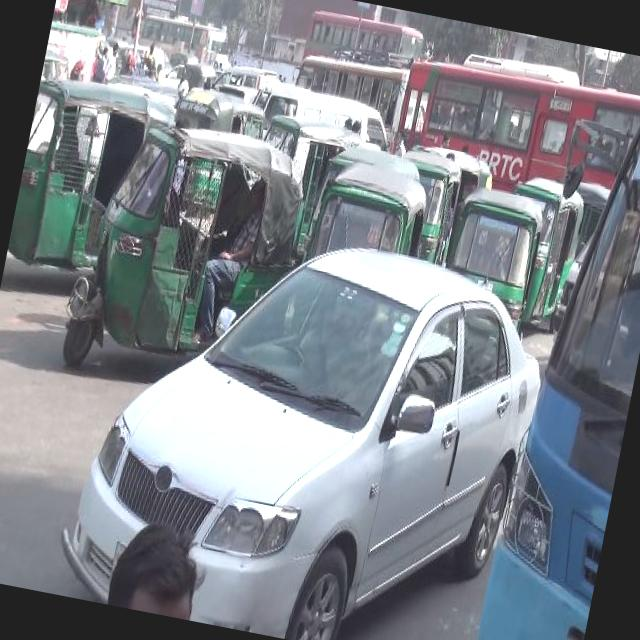bus: (469, 47, 640, 640), (381, 37, 640, 240), (283, 44, 411, 141), (297, 0, 428, 90), (132, 4, 239, 80)
car: (49, 198, 559, 640), (157, 54, 189, 89)
motorcycle: (54, 110, 319, 418), (4, 70, 177, 296), (432, 181, 548, 360), (299, 152, 433, 298), (247, 108, 368, 254), (492, 164, 590, 338), (310, 132, 426, 266), (382, 143, 466, 276), (398, 134, 497, 238), (170, 80, 268, 158), (173, 58, 220, 104), (42, 40, 77, 80)
truck: (248, 80, 399, 160), (212, 57, 277, 106)
